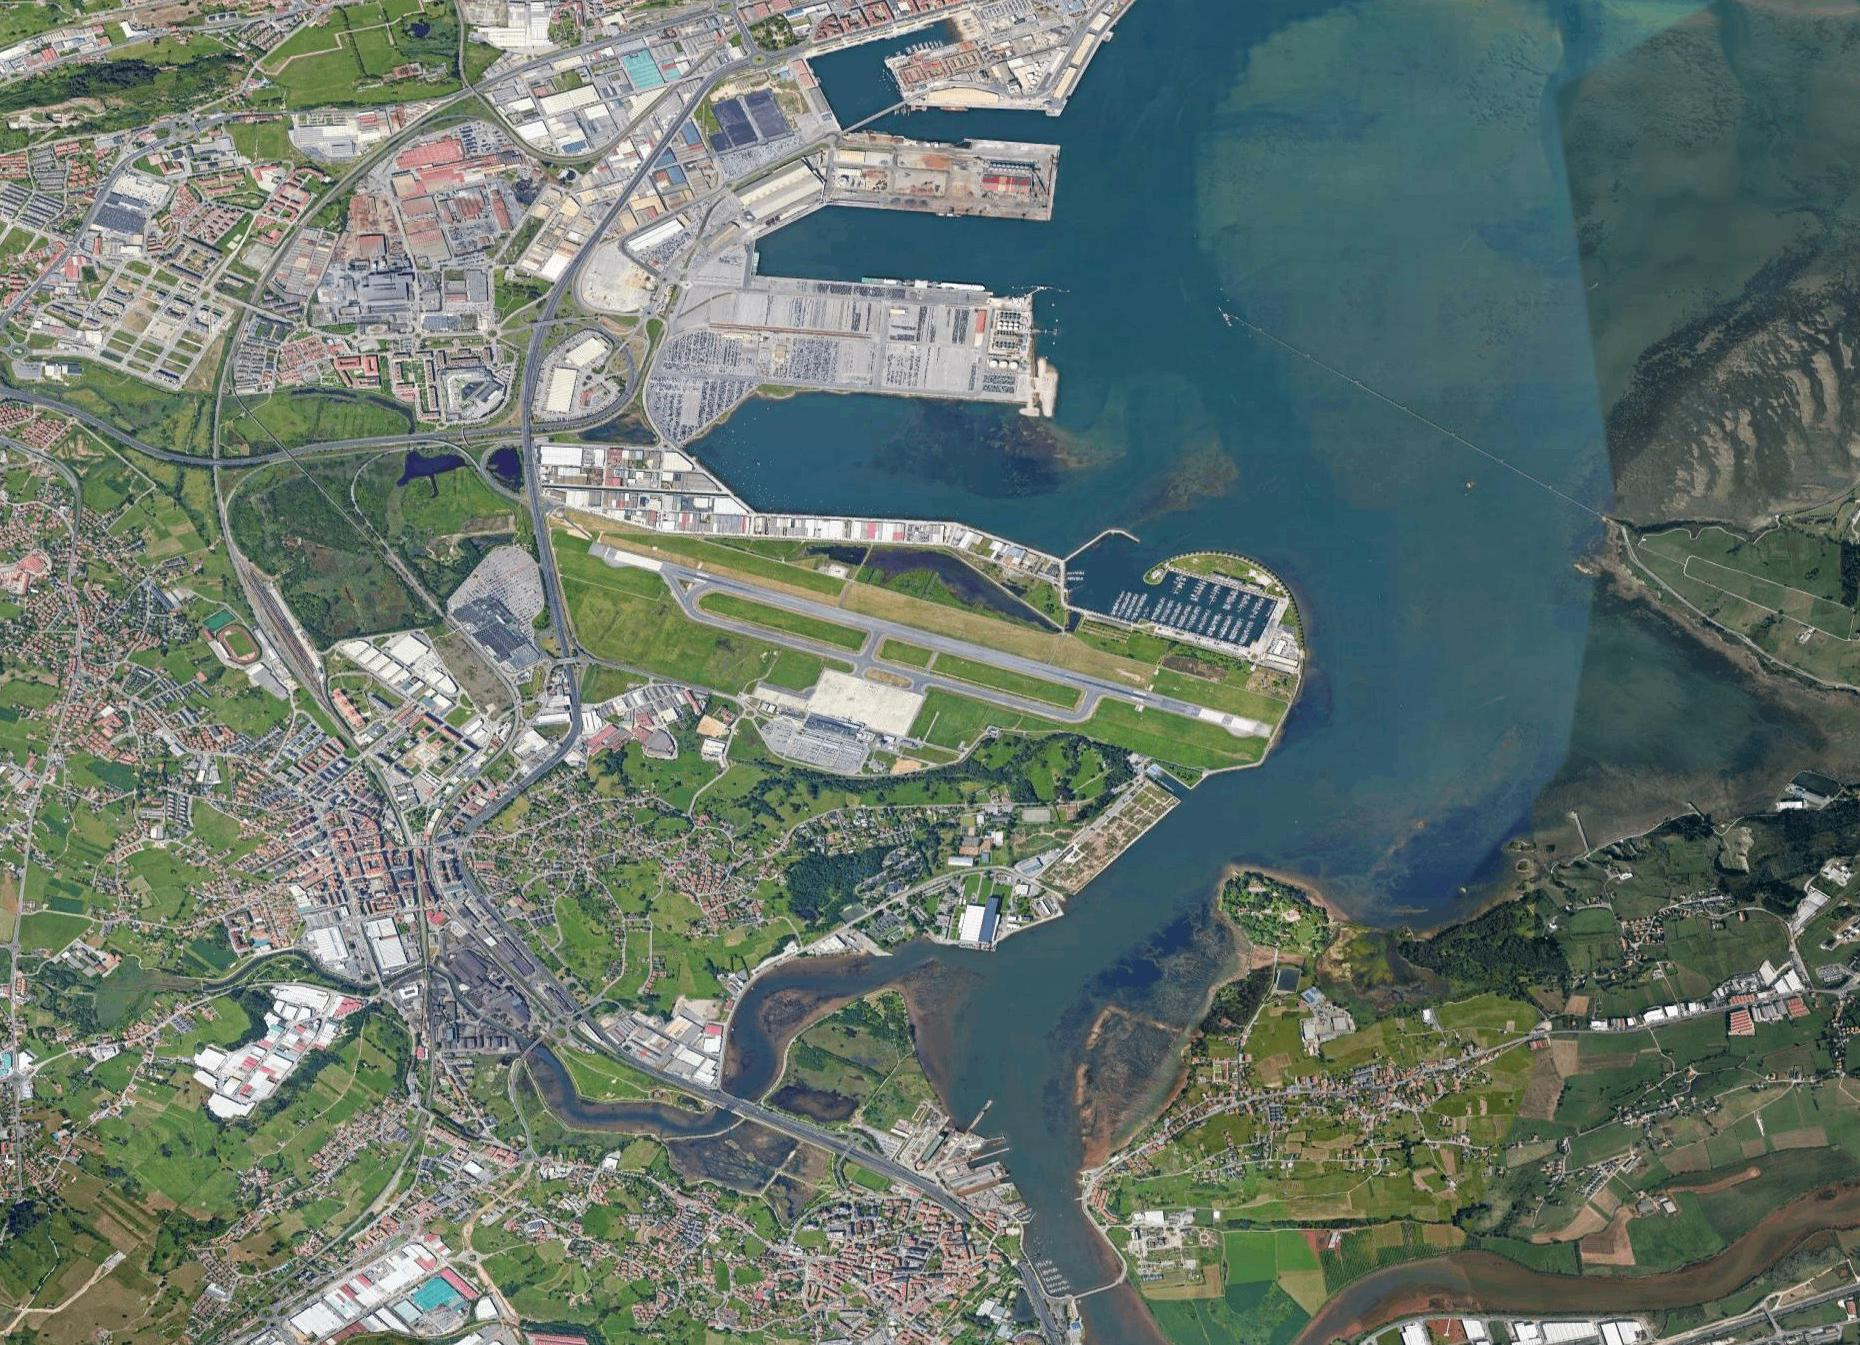airport: (583, 537, 1275, 776)
harbor: (682, 108, 1085, 446), (1072, 535, 1316, 654)
motorway: (585, 46, 752, 247), (721, 1092, 966, 1214), (1, 363, 207, 480), (492, 244, 583, 472), (524, 470, 588, 753), (209, 416, 488, 475)
